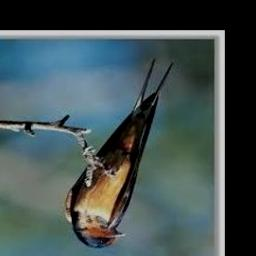Swallow: (64, 59, 174, 249)
